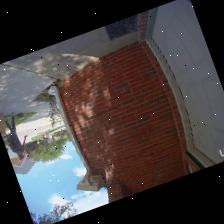person: (5, 112, 27, 158)
